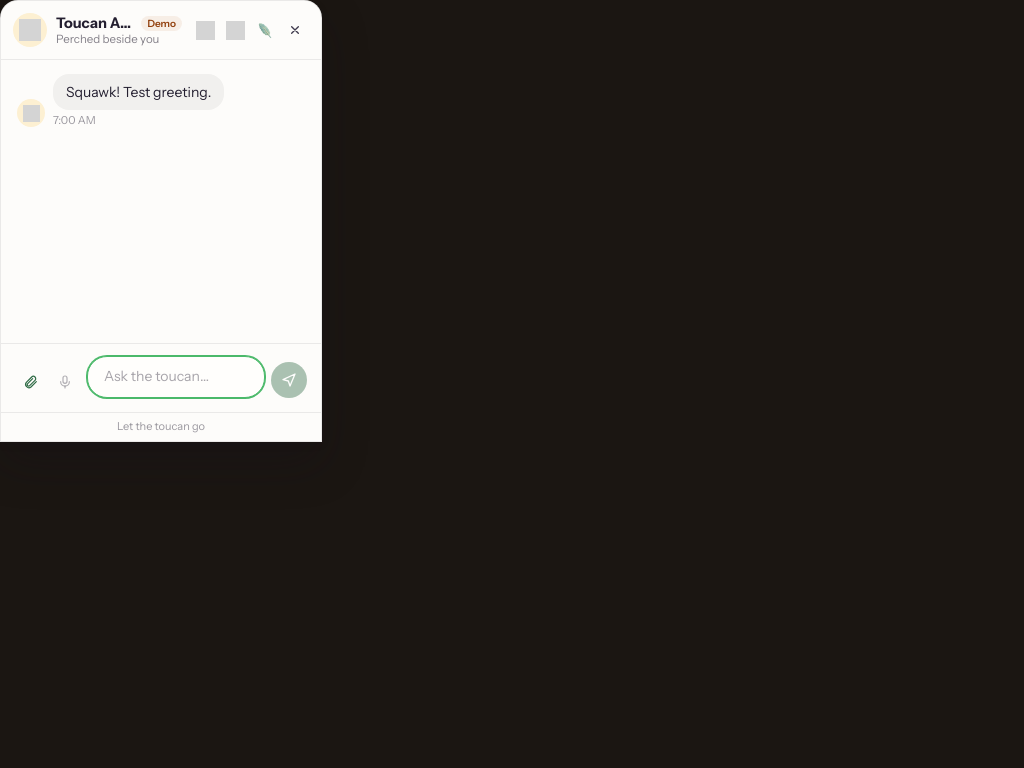
Scenario: Toucan T10 multimodal composer preparation › stages attachment metadata through the seam and lets it be removed
Click the button named "Attach a file": (31, 382) x1=15 y1=366 x2=47 y2=398
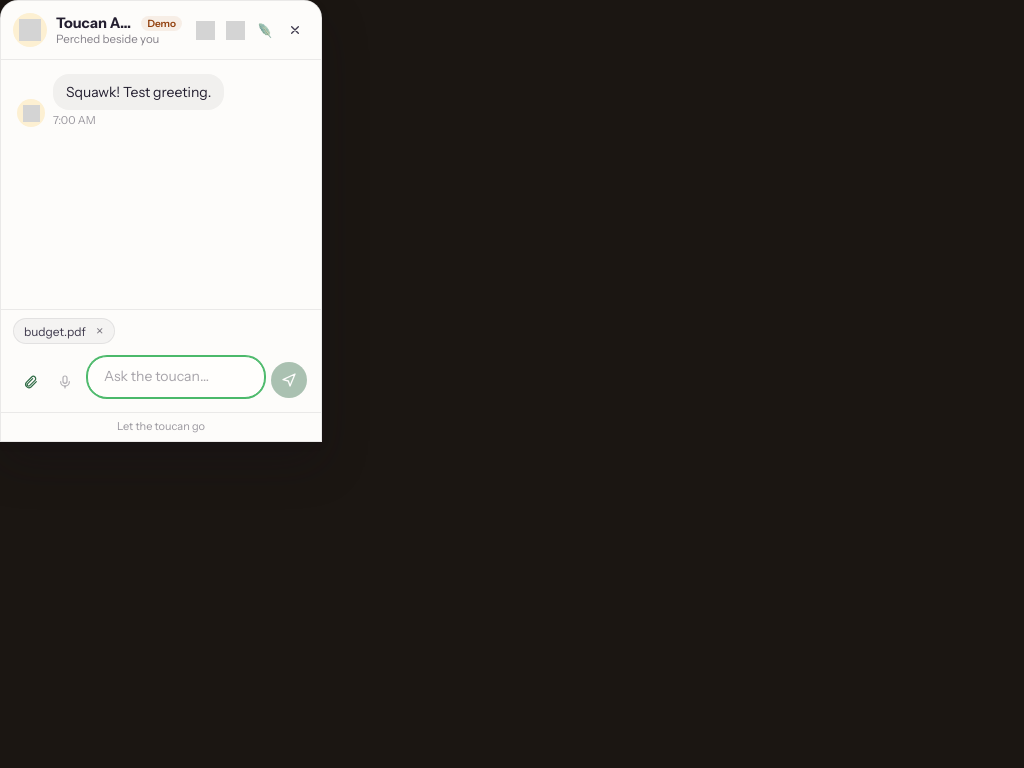
Check: the element named "Attachments" is shown, box x1=1 y1=309 x2=321 y2=344
Check: the text "budget.pdf" is shown, box x1=24 y1=324 x2=86 y2=338
Click the button named "Remove budget.pdf": (100, 331) x1=92 y1=323 x2=108 y2=339
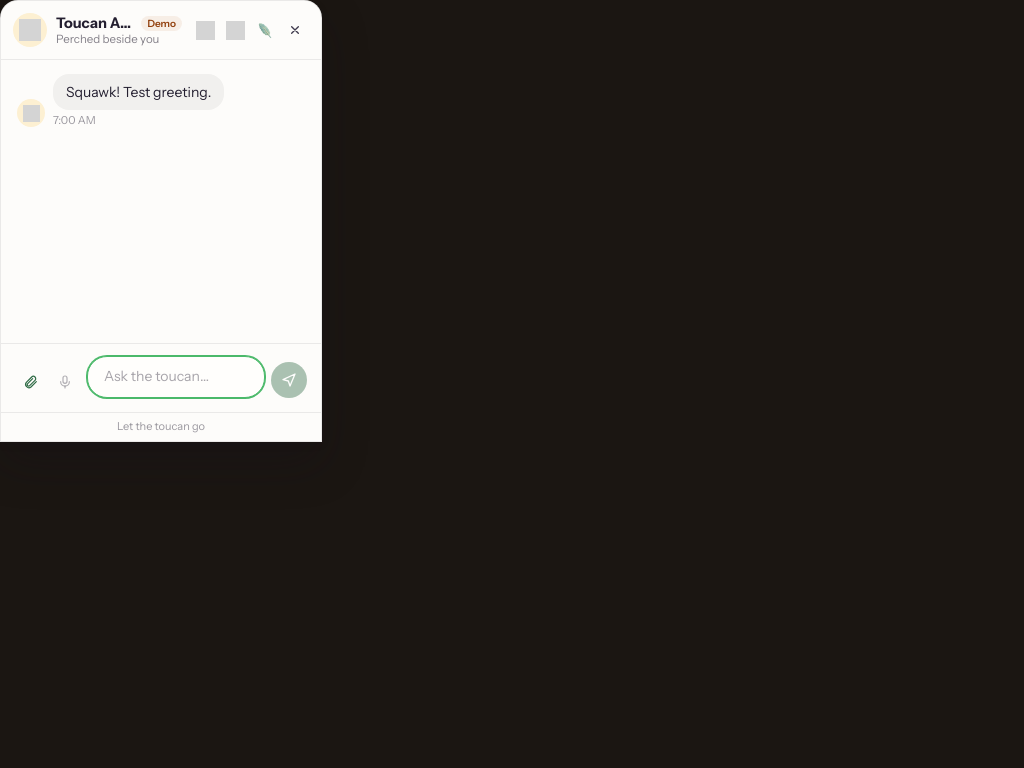
Check: the field labelled "Attachments" is gone
